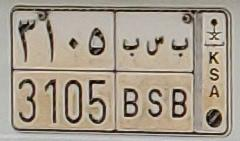0: (65, 36, 84, 125)
1: (42, 19, 60, 125)
3: (18, 18, 37, 123)
5: (87, 27, 108, 124)
B: (168, 36, 189, 118), (122, 37, 142, 119)
S: (145, 36, 164, 118)
